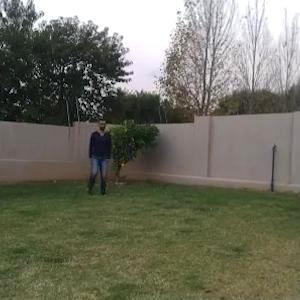follow: (90, 117, 109, 194)
